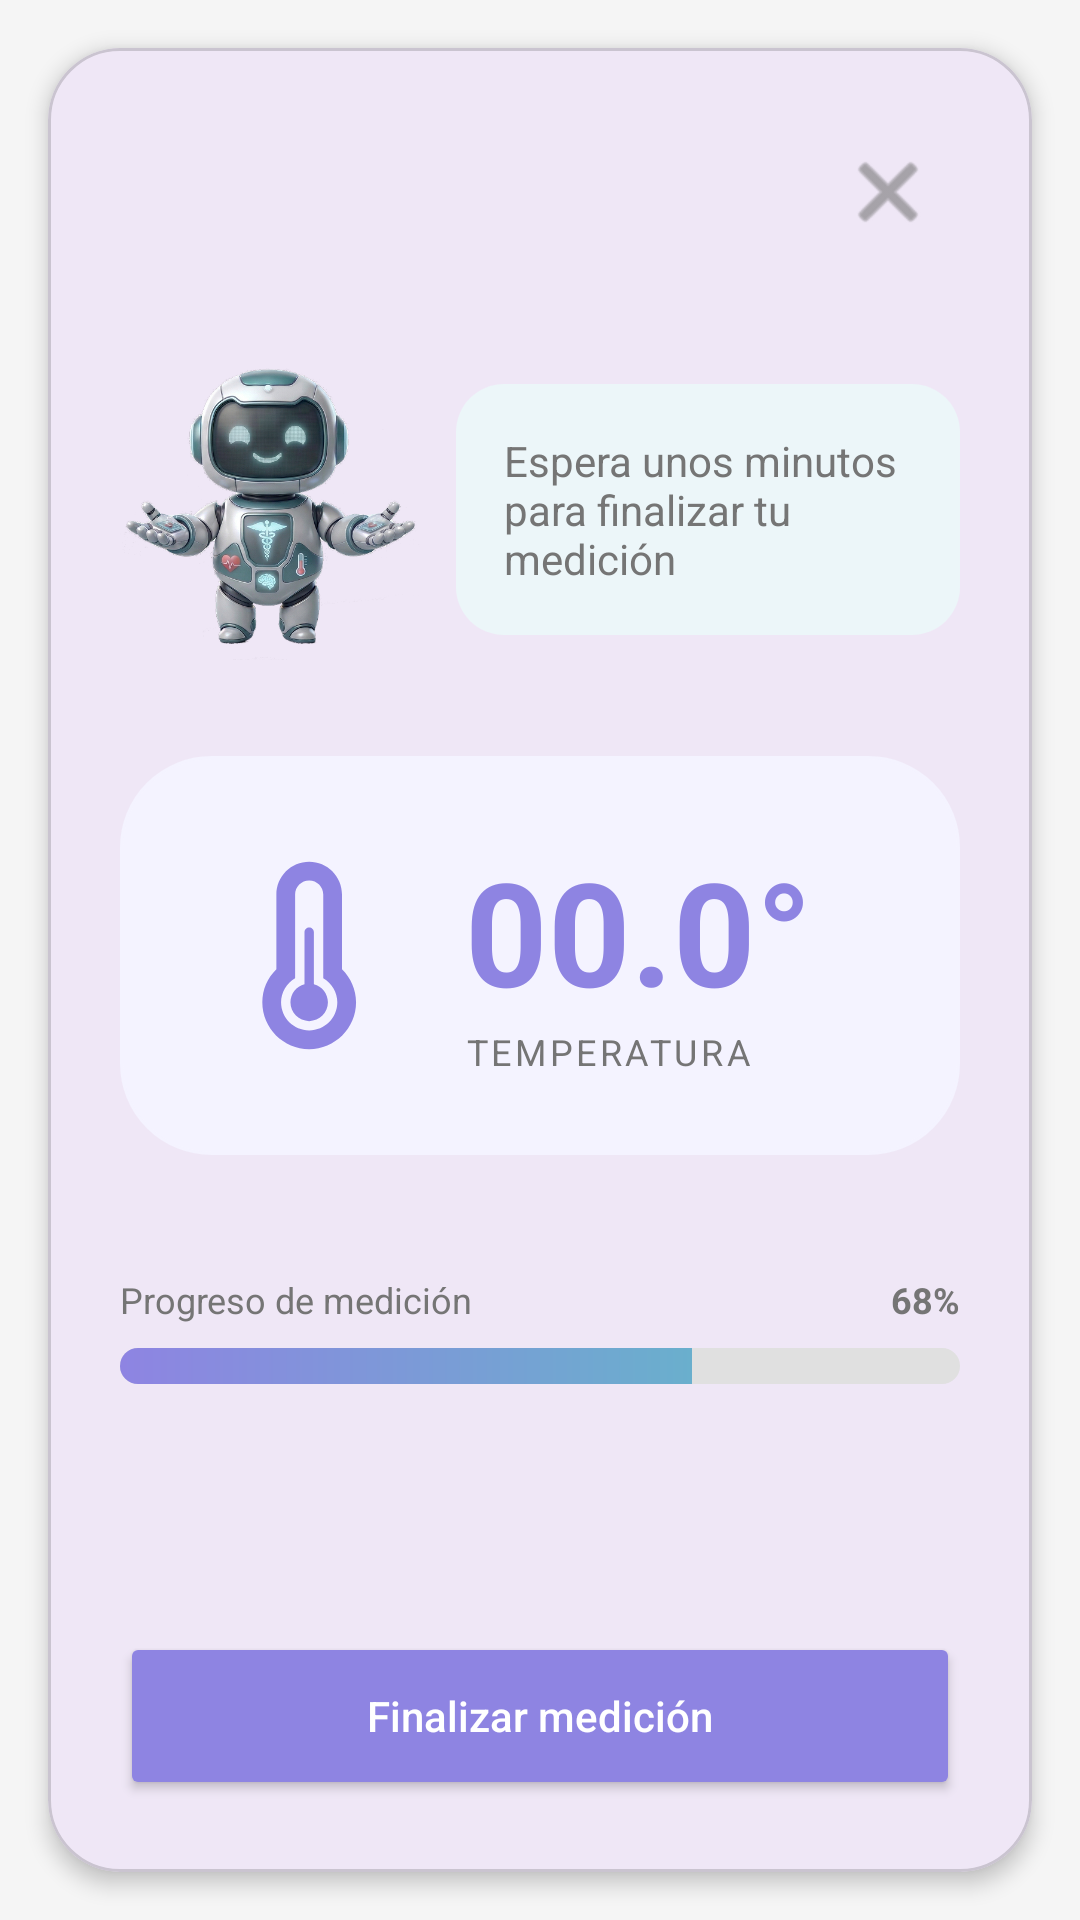

Icon bounding boxes for this 1080x1920 phone screenshot, format (x1, y1, x2, y2):
close clear cancel: (858, 162, 918, 222)
termometro: (262, 861, 356, 1050)
